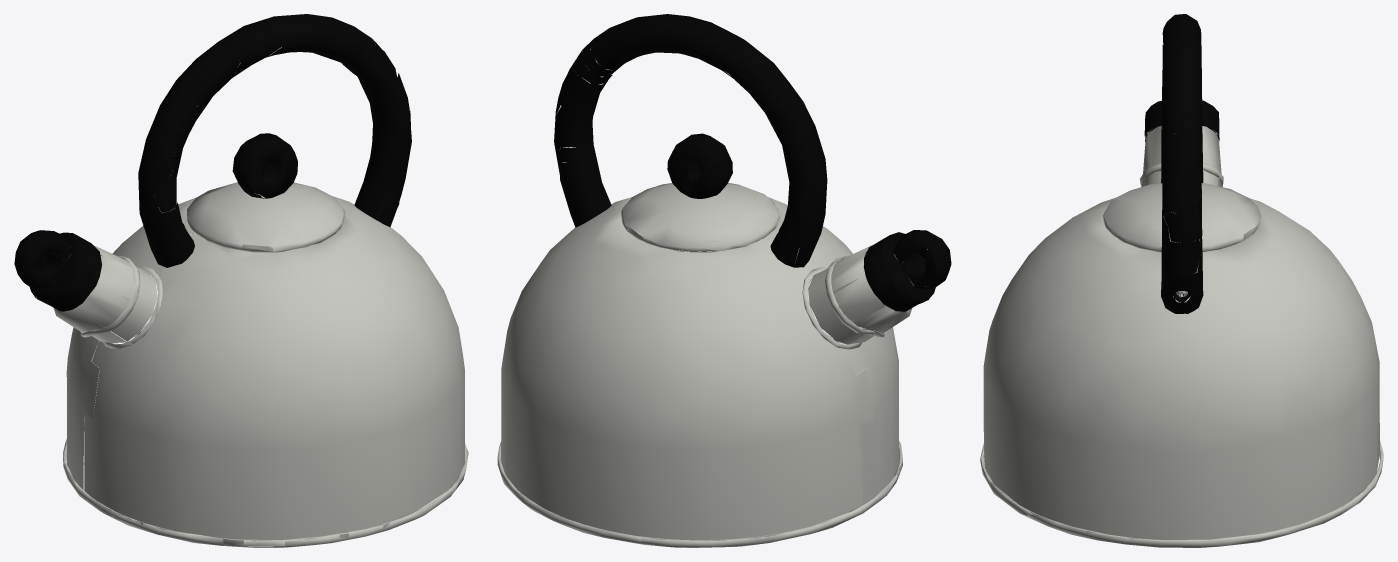
The picture shows the model from 3 angles, left to right: view 1: azimuth 30°, elevation 25°; view 2: azimuth 150°, elevation 25°; view 3: azimuth 270°, elevation 25°; orthographic projection.
Visible parts, largest first — view 1: vattentat-kettle.001; view 2: vattentat-kettle.001; view 3: vattentat-kettle.001.
Boxes of the visible parts, box(x1,y1,x2,y2) form: vattentat-kettle.001: box(14, 14, 468, 547); vattentat-kettle.001: box(497, 14, 951, 547); vattentat-kettle.001: box(980, 14, 1383, 547).
Bounding box in the file's own units: 0.2309 × 0.2344 × 0.1914.
1 material, 1 textured.
